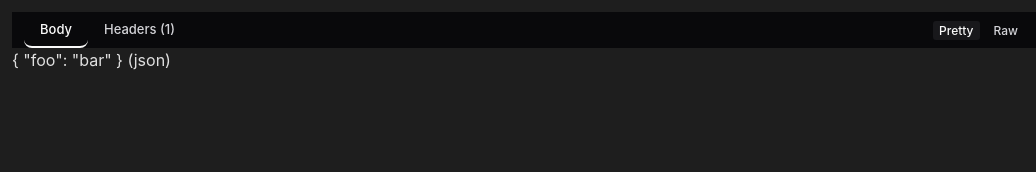
ResponseBodyViewer.vue › renders body and toggles format mode
expect the text with class "mock-monaco" shows "\"foo\": \"bar\"": met, box [12,50,171,70]
expect the text with class "mock-monaco" shows "(json)": met, box [12,50,171,70]
Note: Switch to Raw
Click the button with class "action-btn" showing "Raw" at x=1006, y=30, box [988,20,1024,40]
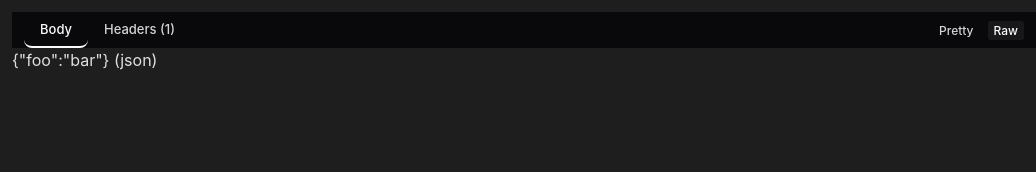
expect the text with class "mock-monaco" shows "{\"foo\":\"bar\"}": met, box [12,50,157,70]
Note: Switch back to Pretty
Click the button with class "action-btn" showing "Pretty" at x=956, y=30, box [933,20,980,40]
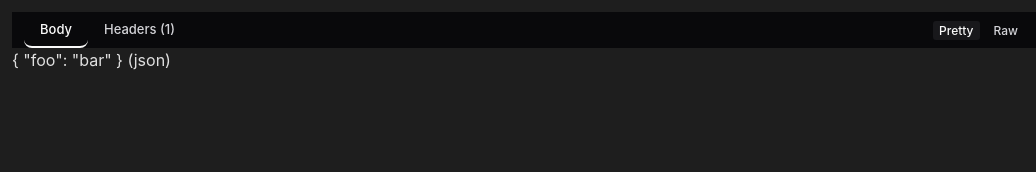
expect the text with class "mock-monaco" shows "\"foo\": \"bar\"": met, box [12,50,171,70]
